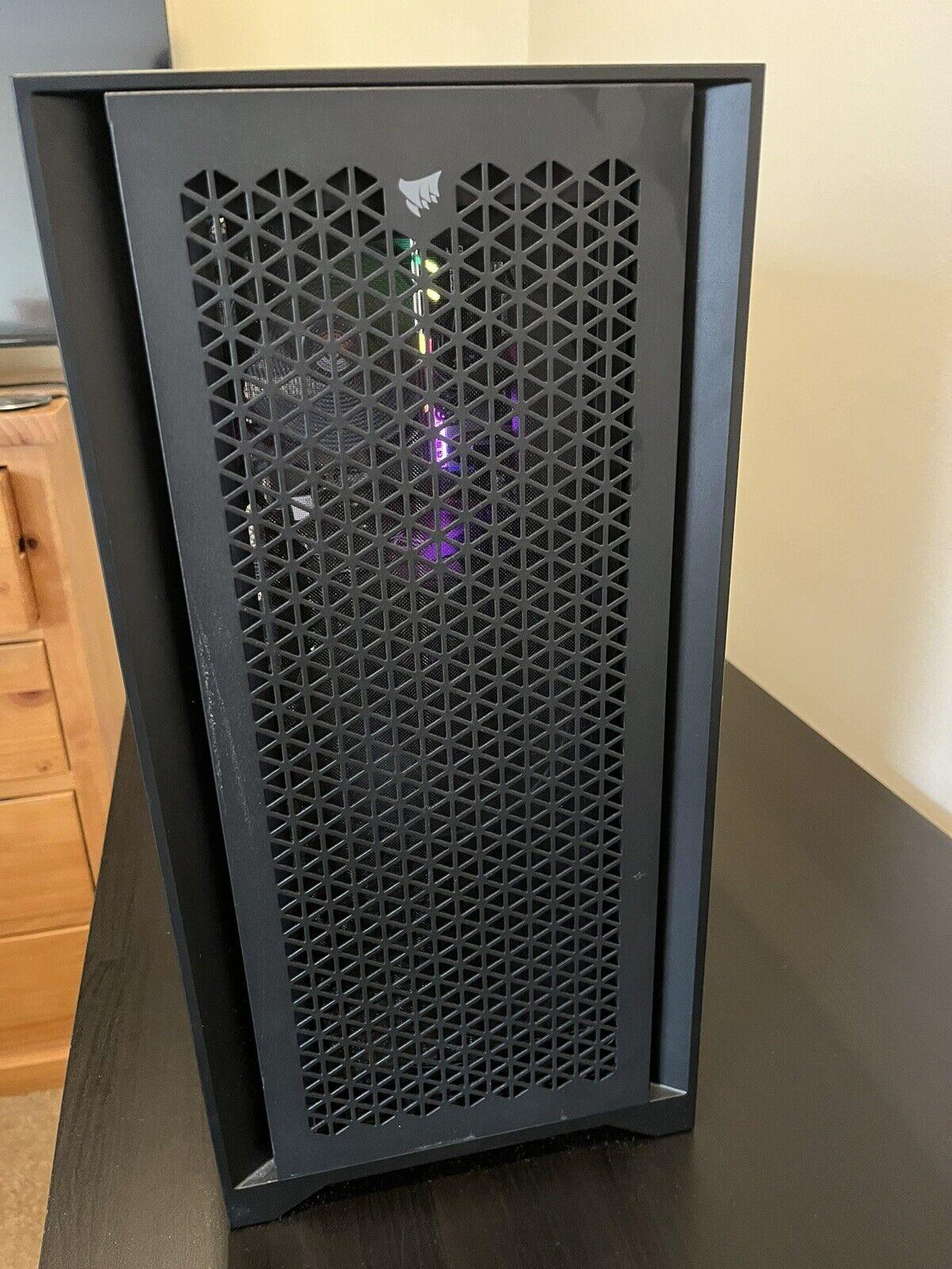computer_tower: (37, 13, 750, 1207)
